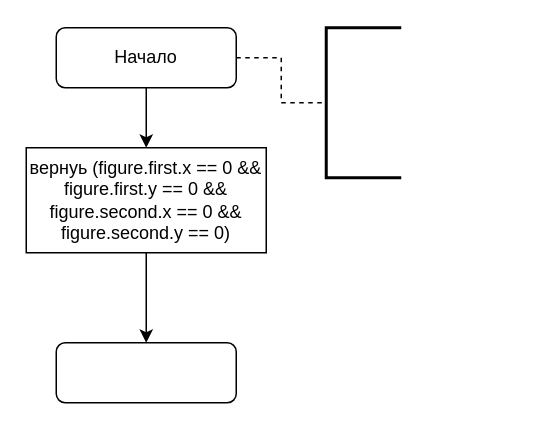
Some shapes in this 540 by 429 pixel diagram are drawn without their labels. The box of each missing label's shape, as (x1, y1, x2, y2) in pixels:
is_empty( figure ) // используется для // проверки // нахождения фигуры: (324, 26, 402, 178)
Конец: (55, 341, 236, 403)
